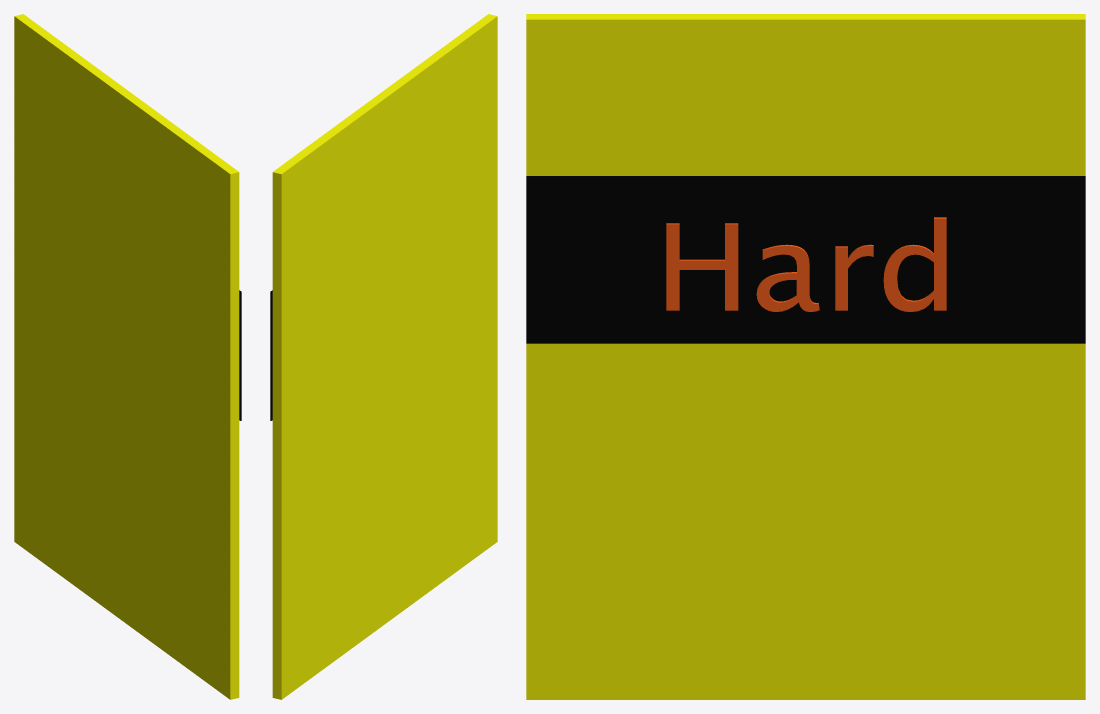
File: AST_transitionHallway_sh_door_hard.fbx
The picture shows the model from 3 angles, left to right: view 1: azimuth 30°, elevation 25°; view 2: azimuth 150°, elevation 25°; view 3: azimuth 270°, elevation 25°; orthographic projection. The views are drawn at different scales.
Visible parts, largest first — view 1: MSH_transitionHallway_sh_door_hard; view 2: MSH_transitionHallway_sh_door_hard; view 3: MSH_transitionHallway_sh_door_hard.
Boxes of the visible parts, box(x1,y1,x2,y2) form: MSH_transitionHallway_sh_door_hard: box(14, 14, 241, 699); MSH_transitionHallway_sh_door_hard: box(270, 14, 497, 699); MSH_transitionHallway_sh_door_hard: box(526, 14, 1085, 699).
Bounding box in the file's own units: 7.06 × 272 × 202.
